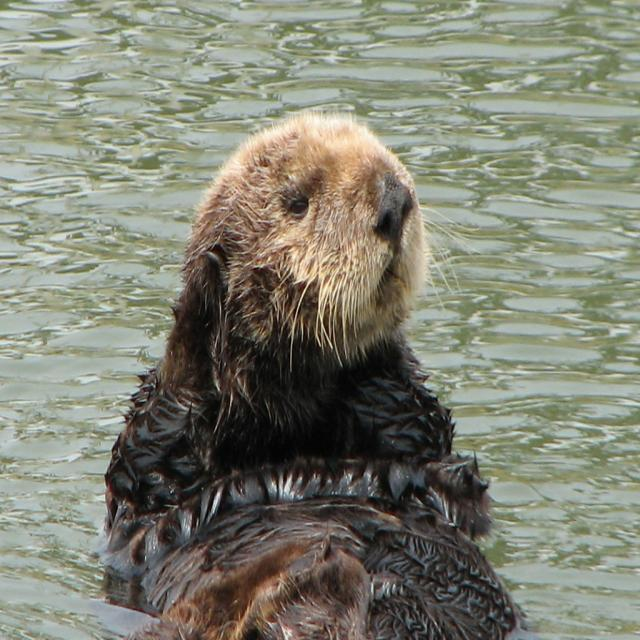otter: (106, 115, 514, 640)
